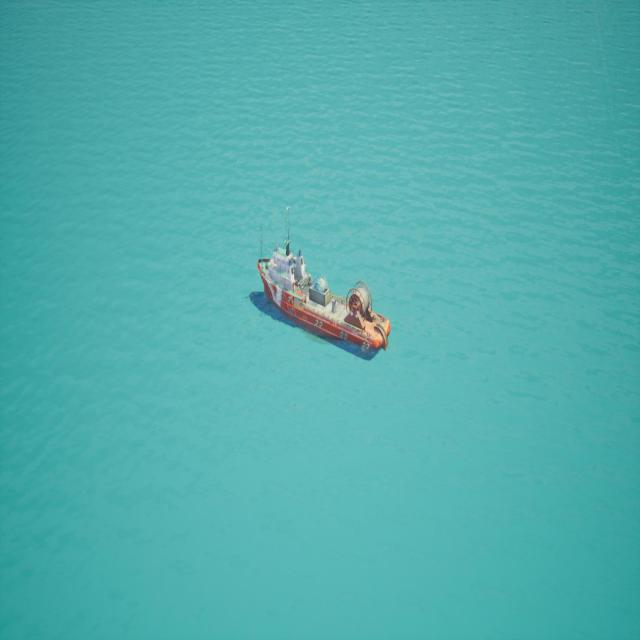tug boat: (253, 208, 393, 361)
